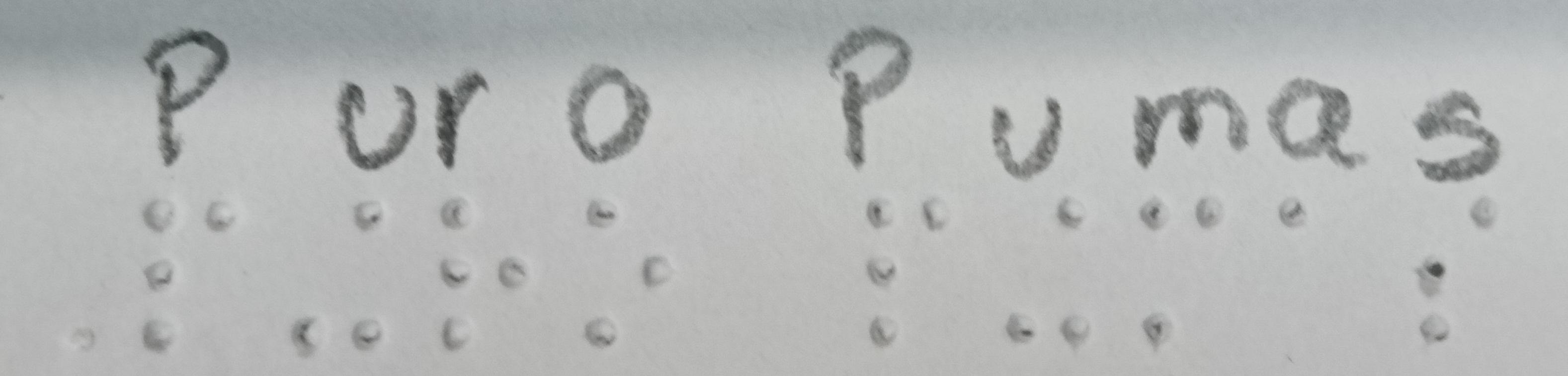a: (1246, 195, 1344, 240)
m: (1128, 192, 1236, 356)
o: (557, 192, 706, 364)
p: (108, 177, 255, 363), (822, 182, 959, 353)
r: (416, 180, 537, 368)
s: (1402, 195, 1513, 359)
u: (277, 184, 406, 364), (987, 190, 1120, 359)
